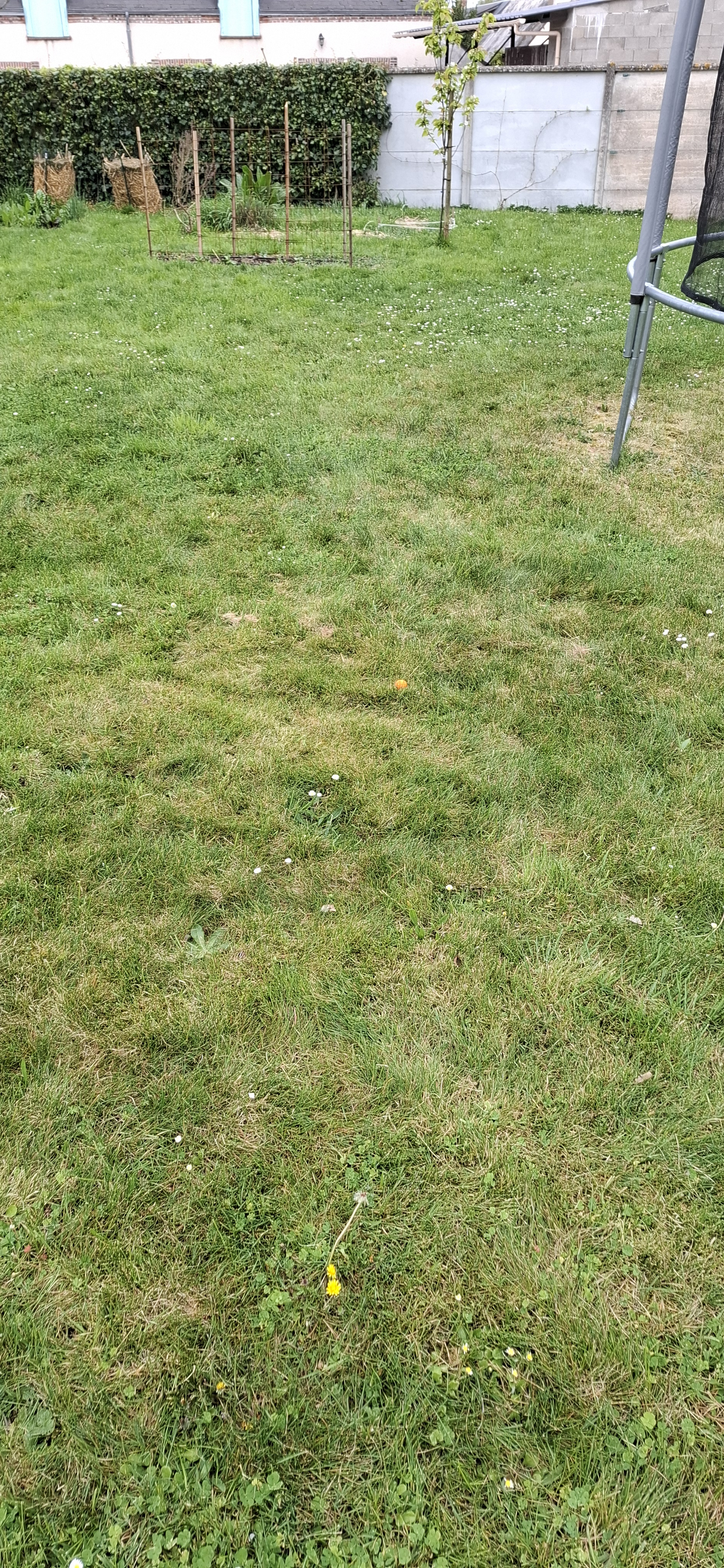ball: (314, 686, 320, 712)
